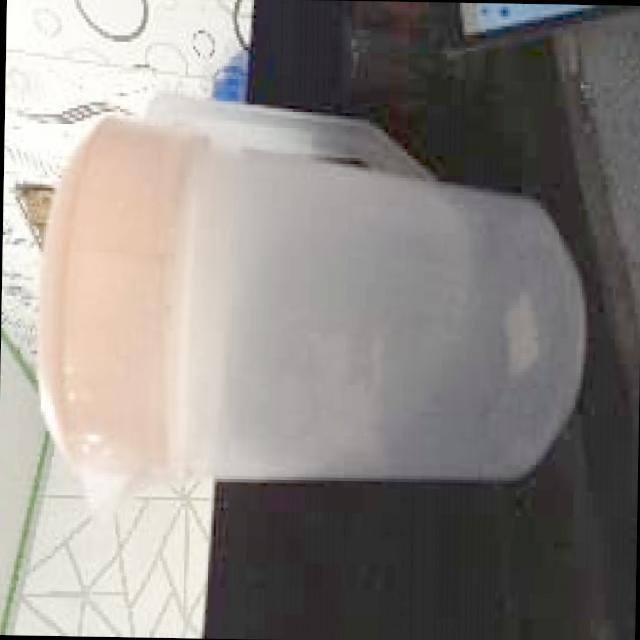HDPE Plastic: (32, 89, 590, 534)
